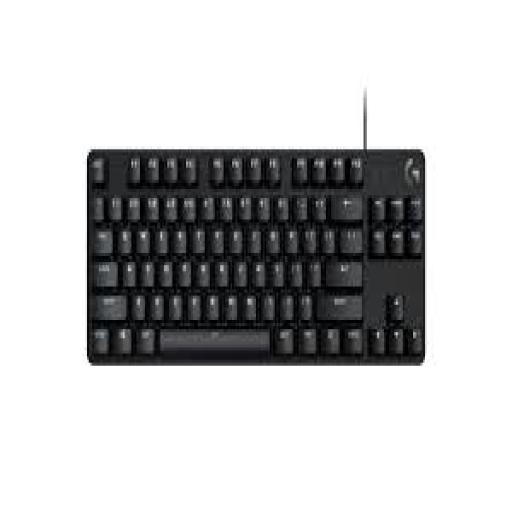KEYBOARD-2: (85, 149, 425, 363)
